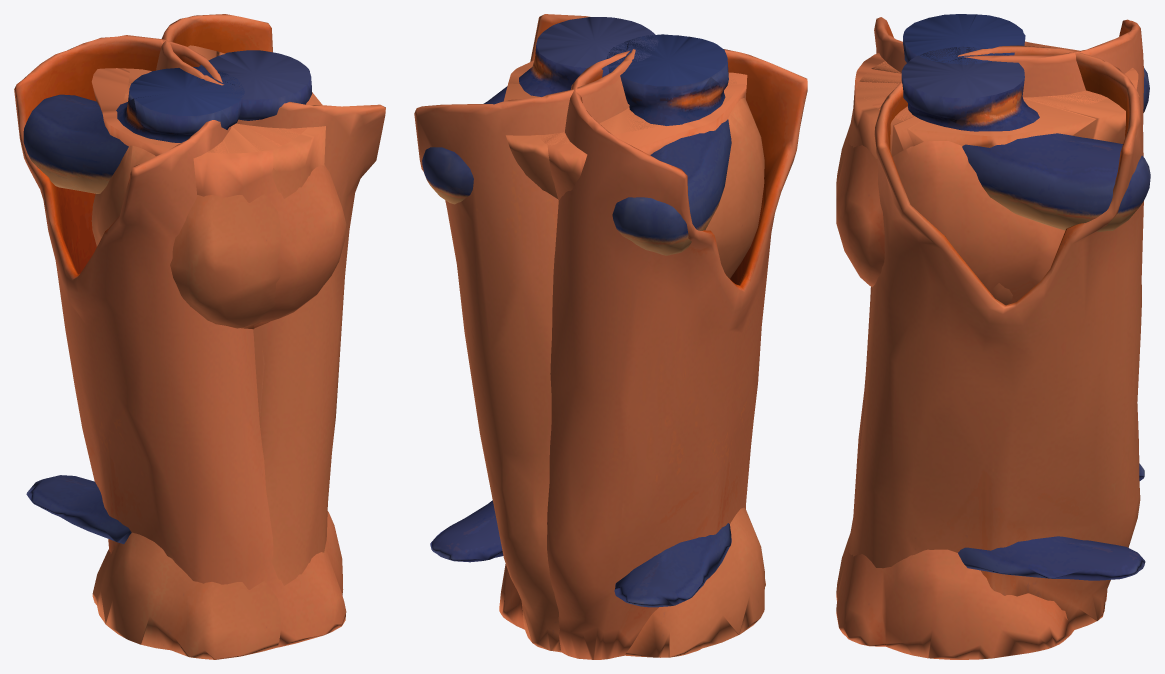
Rendered from legs-rbx989.glb.
3 renders of one model, left to right at view 1: azimuth 30°, elevation 25°; view 2: azimuth 150°, elevation 25°; view 3: azimuth 270°, elevation 25°, orthographic. The views are drawn at different scales.
Parts seen in each view (by area): view 1: thighR__rbx, thighL__rbx, kneeL__rbx, kneeR__rbx, ankleL__rbx, ankleR__rbx; view 2: thighR__rbx, thighL__rbx, ankleL__rbx, kneeL__rbx, ankleR__rbx, kneeR__rbx; view 3: thighL__rbx, kneeR__rbx, thighR__rbx, ankleR__rbx, kneeL__rbx, ankleL__rbx.
Part boxes in pixels (bbox=[...]): thighR__rbx: bbox=[14, 35, 346, 647]; thighL__rbx: bbox=[92, 14, 385, 659]; kneeL__rbx: bbox=[26, 45, 325, 543]; kneeR__rbx: bbox=[91, 68, 346, 328]; ankleL__rbx: bbox=[23, 67, 244, 193]; ankleR__rbx: bbox=[195, 50, 312, 120]; thighR__rbx: bbox=[499, 49, 807, 659]; thighL__rbx: bbox=[414, 14, 765, 657]; ankleL__rbx: bbox=[606, 34, 731, 255]; kneeL__rbx: bbox=[504, 60, 764, 607]; ankleR__rbx: bbox=[422, 17, 658, 204]; kneeR__rbx: bbox=[430, 72, 747, 562]; thighL__rbx: bbox=[836, 45, 1143, 629]; kneeR__rbx: bbox=[836, 41, 1145, 580]; thighR__rbx: bbox=[836, 17, 1144, 659]; ankleR__rbx: bbox=[901, 46, 1150, 231]; kneeL__rbx: bbox=[836, 61, 1144, 480]; ankleL__rbx: bbox=[903, 14, 1149, 112].
Size of the model in its own units: 0.2086 by 0.4061 by 0.2092.
Materials: 2 (2 with a texture image).
